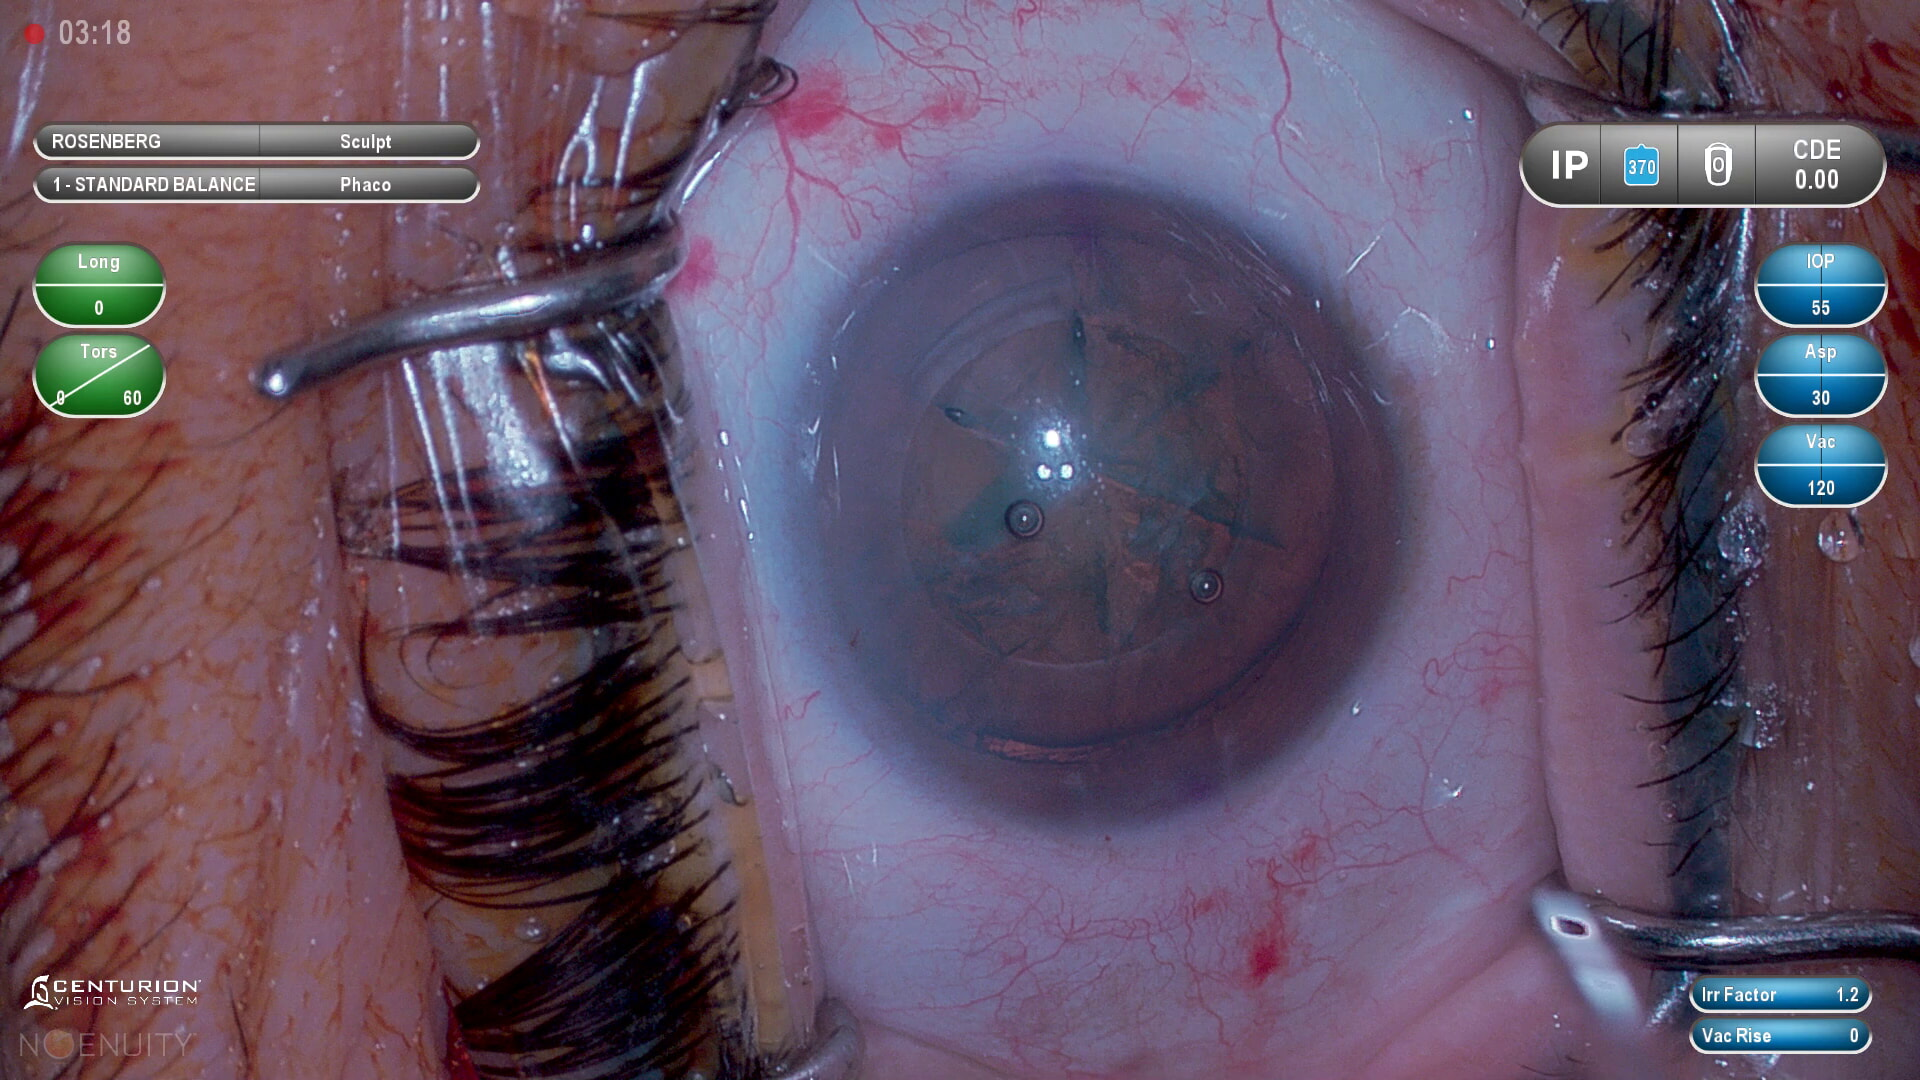iris: (801, 183, 1408, 817)
pupil: (838, 246, 1337, 755)
